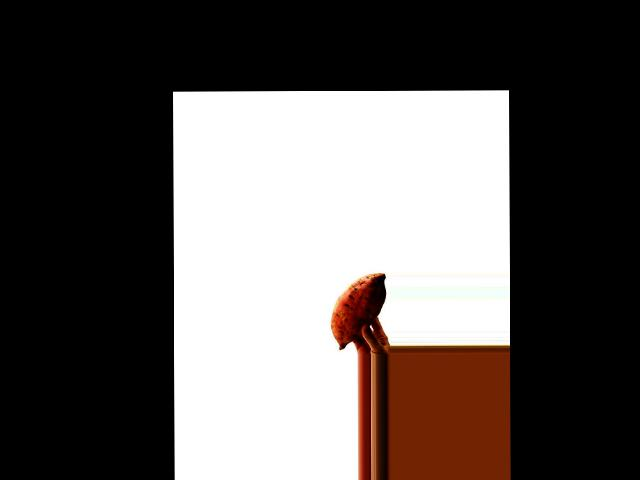sweet_potato: (325, 271, 388, 347)
